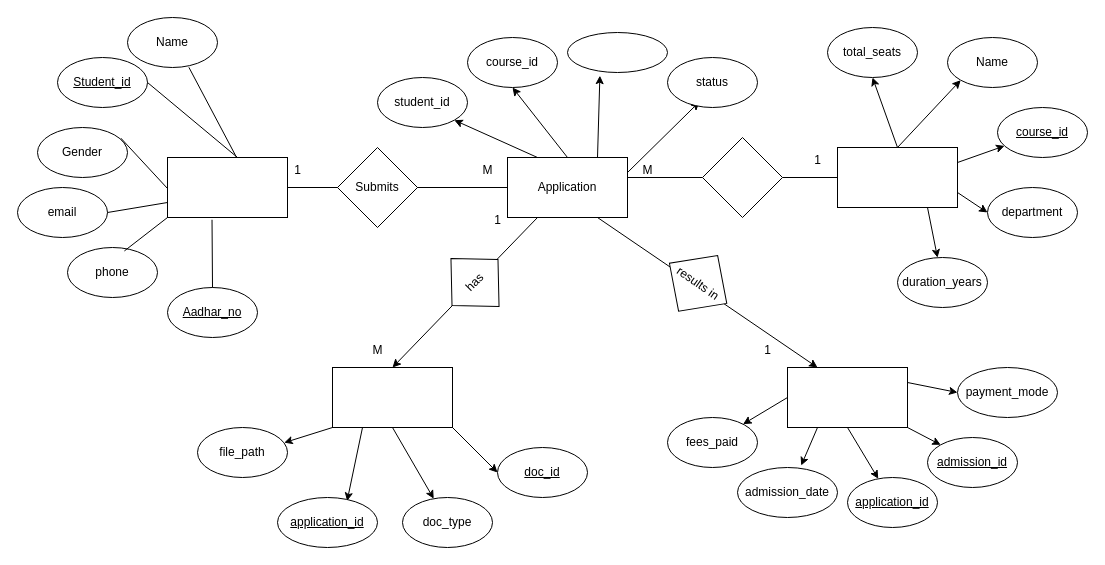
The diagram is 1105 pixels wide and 565 high, and some of its shapes have lost their labels. The box of each missing label's shape, as (x1, y1, x2, y2) in pixels:
Admission: (786, 366, 908, 428)
application_date: (566, 32, 668, 72)
Course: (836, 146, 958, 208)
Documents: (332, 366, 452, 428)
recieves: (702, 136, 782, 218)
Student: (166, 156, 288, 218)
